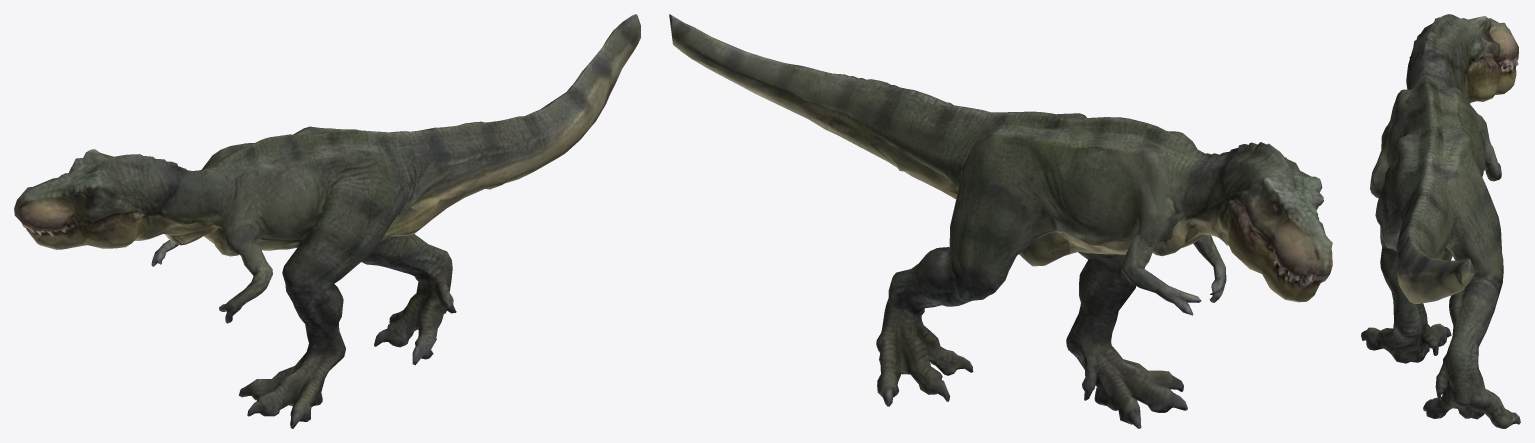
The model's file is dino.glb.
3 views of the same model, side by side, from view 1: azimuth 30°, elevation 25°; view 2: azimuth 150°, elevation 25°; view 3: azimuth 270°, elevation 25° (orthographic). The views are drawn at different scales.
Visible parts, largest first — view 1: part0; view 2: part0; view 3: part0.
Part boxes in pixels (x1,y1,x2,y2): part0: (14, 14, 640, 428); part0: (669, 14, 1332, 428); part0: (1361, 14, 1520, 428).
Bounding box in the file's own units: 0.0866 × 0.0381 × 0.0205.
1 material, 1 textured.
